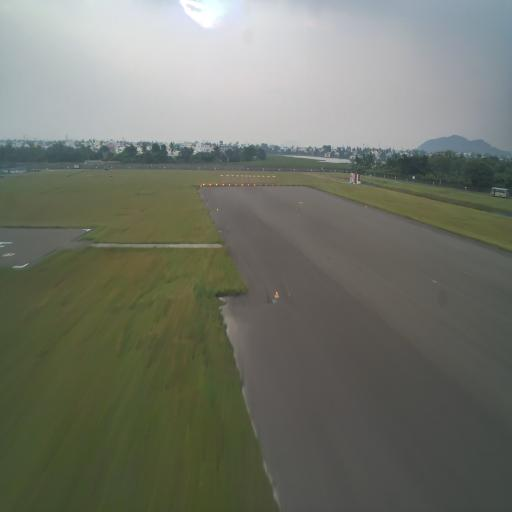on: (275, 290, 279, 297), (208, 182, 212, 188), (241, 182, 244, 188), (365, 204, 368, 210), (216, 207, 219, 212), (203, 182, 205, 188), (247, 183, 250, 187), (253, 183, 256, 187), (260, 182, 262, 188), (272, 182, 274, 188), (277, 183, 280, 187), (216, 182, 218, 187), (228, 182, 230, 187), (200, 184, 202, 188), (222, 183, 224, 187), (235, 182, 237, 186), (266, 184, 268, 188), (284, 183, 286, 187), (290, 183, 291, 187)
